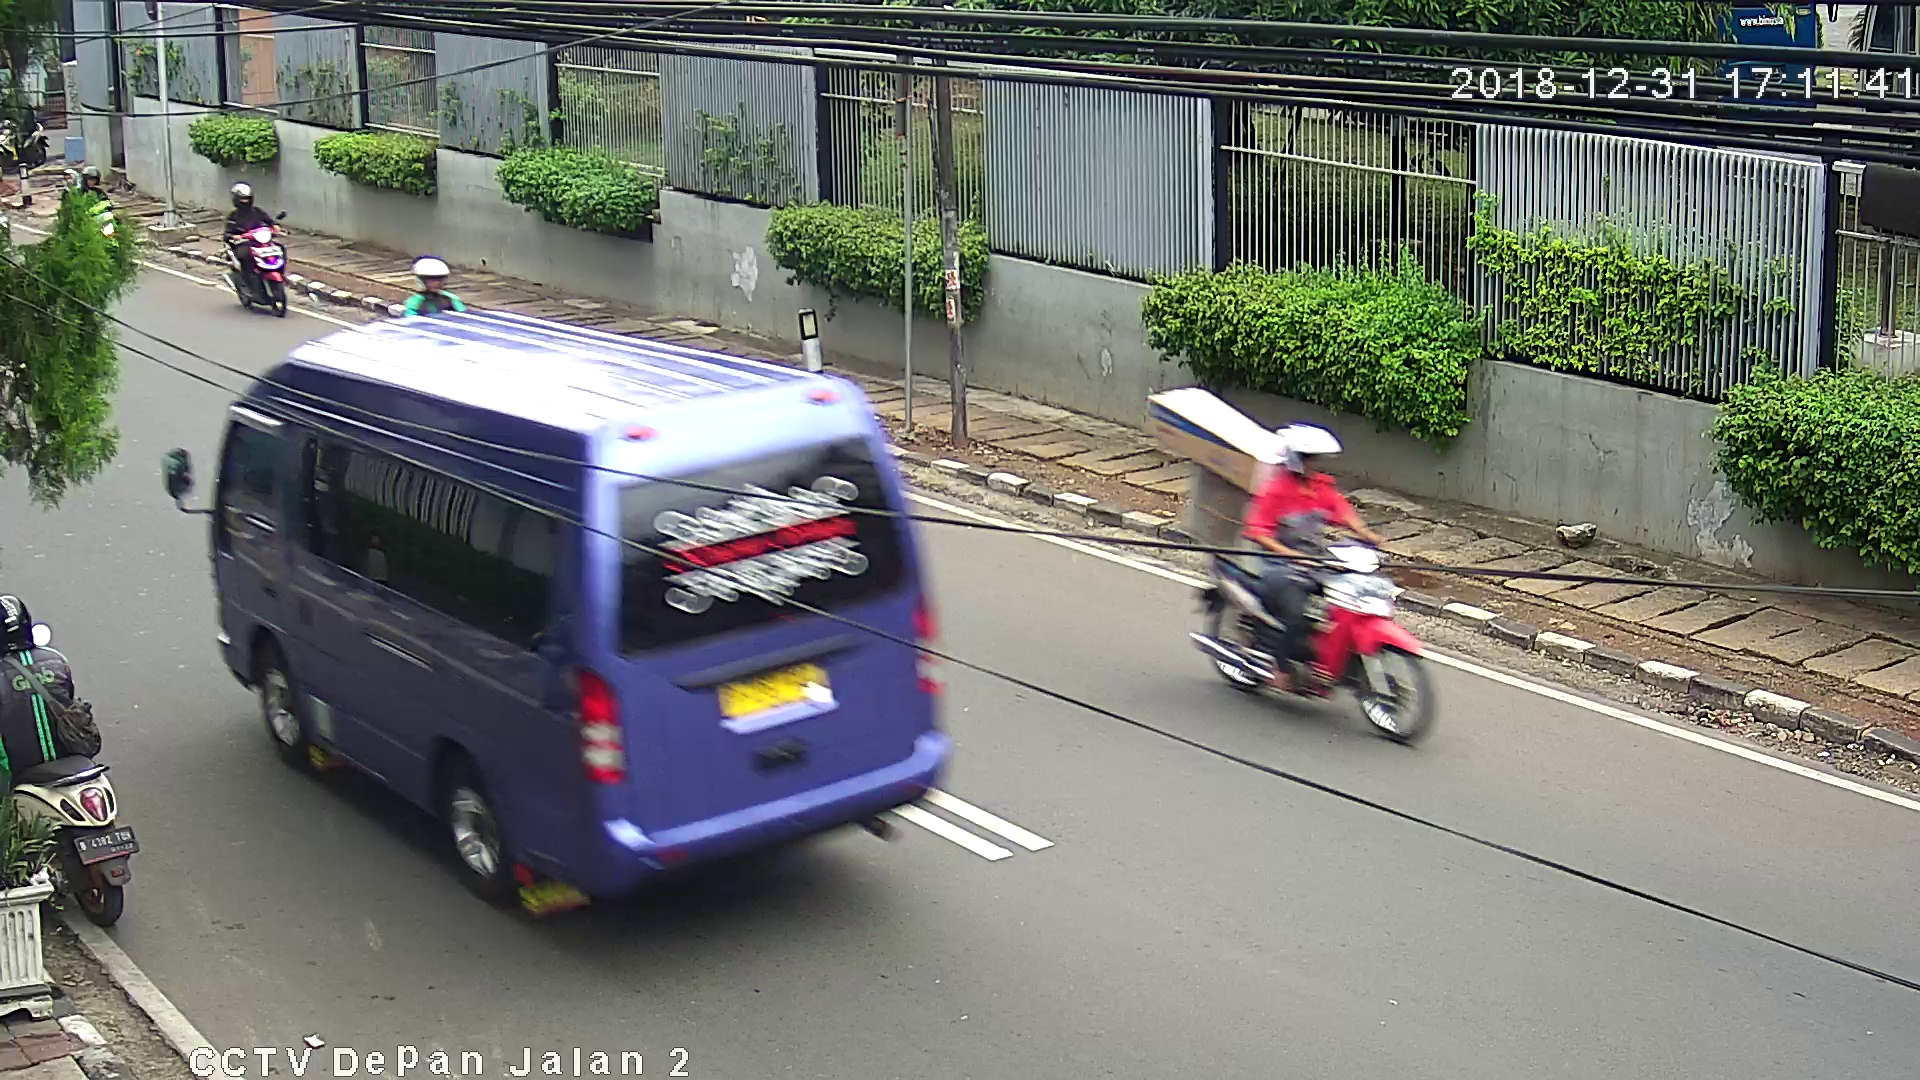bus: (152, 307, 953, 920)
motorcycle: (1142, 389, 1443, 756), (1, 584, 142, 942), (207, 175, 295, 323)
